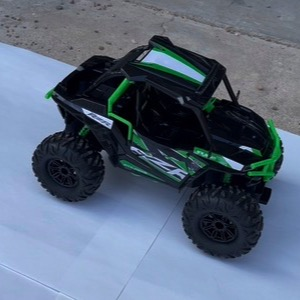polaris: (31, 33, 286, 262)
